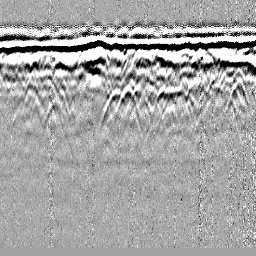cavity: (116, 82, 139, 118)
